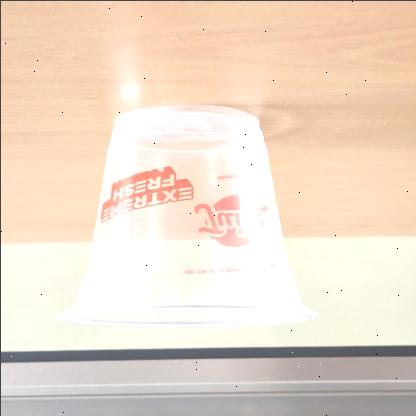Others: (54, 101, 318, 329)
